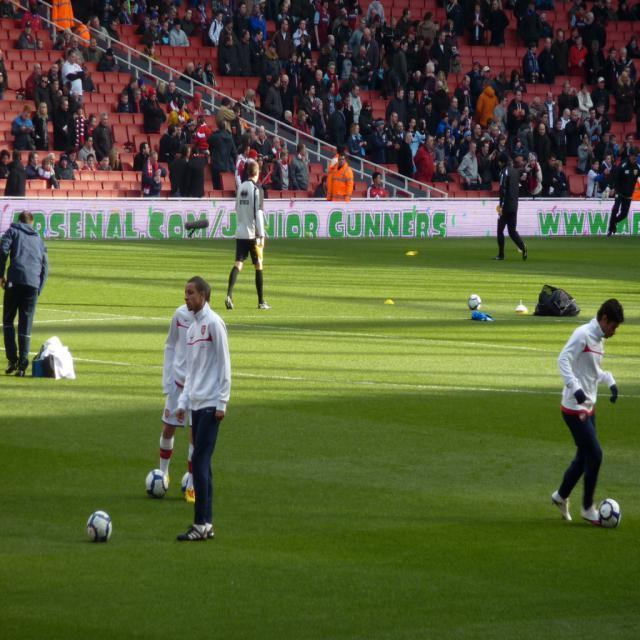football: (82, 499, 118, 550), (141, 464, 173, 496), (458, 291, 493, 310)
